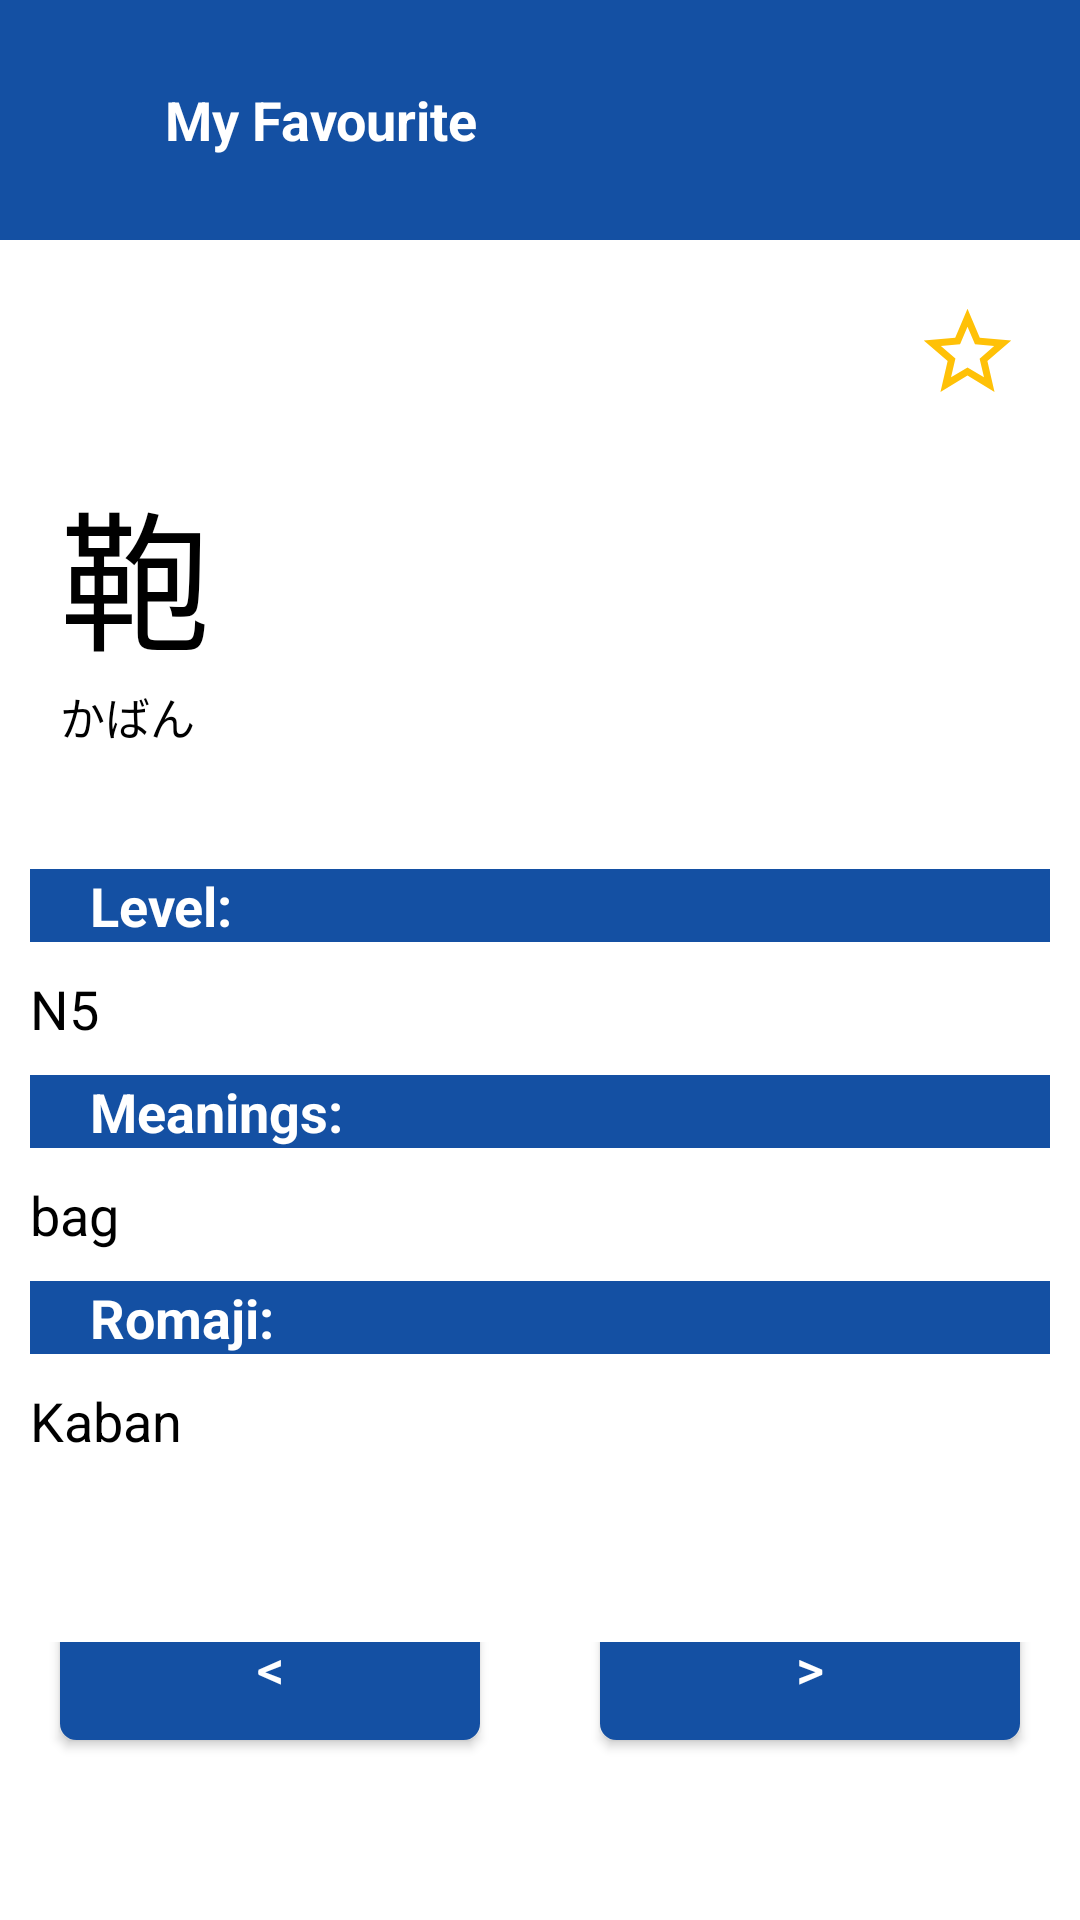

Where to tap for icons on this 1080 × 1920 app screen, as (x,y):
star: (967,350)
